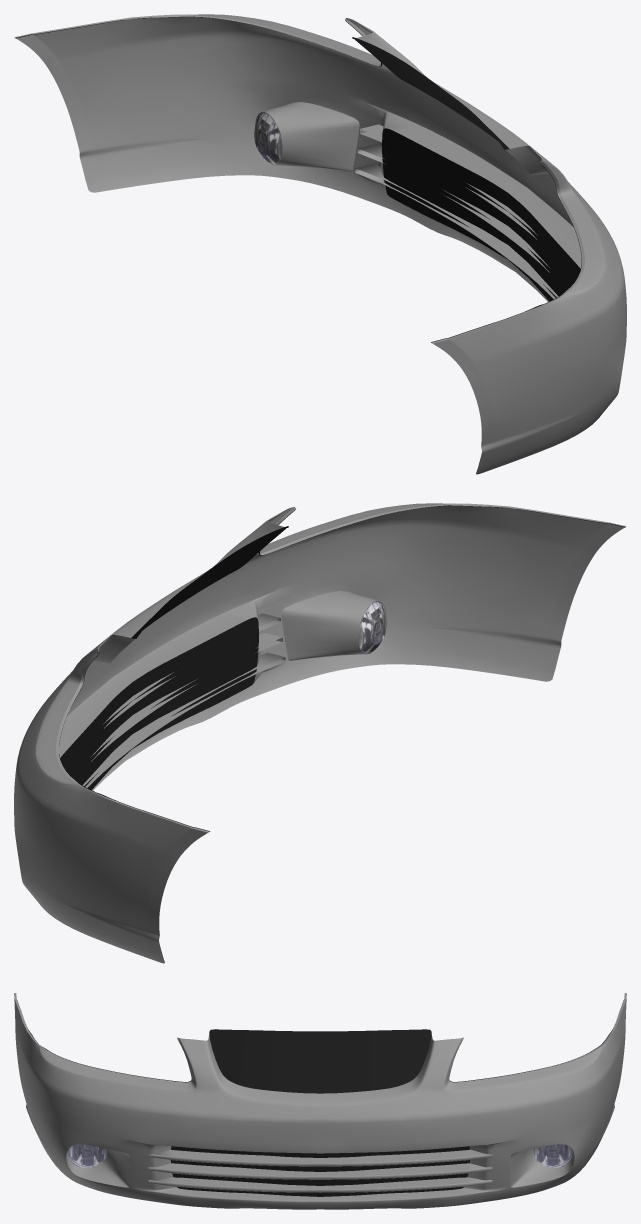
3 views of the same model, one above another, from view 1: azimuth 30°, elevation 25°; view 2: azimuth 150°, elevation 25°; view 3: azimuth 270°, elevation 25° (orthographic). The views are drawn at different scales.
Parts seen in each view (by area): view 1: Z176_021G_C_Z176_021G_C_7_DaS, Z176_021G_C_Z176_021G_C_7_DaS_E, Z176_021G_C_Z176_021G_C_3_D, Z176_021G_C_1_N_Z176_021G_C; view 2: Z176_021G_C_Z176_021G_C_7_DaS, Z176_021G_C_Z176_021G_C_7_DaS_E, Z176_021G_C_Z176_021G_C_3_D, Z176_021G_C_Z176_021G_C_2_N; view 3: Z176_021G_C_Z176_021G_C_7_DaS, Z176_021G_C_Z176_021G_C_3_D, Z176_021G_C_Z176_021G_C_7_DaS_E, Z176_021G_C_1_N_Z176_021G_C, Z176_021G_C_Z176_021G_C_2_N, Z176_021G_C_Z176_021G_C_4_DTaSI, Z176_021G_C_Z176_021G_C_5_DTaSI, Z176_021G_C_Z176_021G_C_6_D.
Part boxes in pixels (<box>): Z176_021G_C_Z176_021G_C_7_DaS: <box>16,14,626,474</box>; Z176_021G_C_Z176_021G_C_7_DaS_E: <box>14,14,584,343</box>; Z176_021G_C_Z176_021G_C_3_D: <box>352,37,580,301</box>; Z176_021G_C_1_N_Z176_021G_C: <box>254,112,282,165</box>; Z176_021G_C_Z176_021G_C_7_DaS: <box>14,503,624,963</box>; Z176_021G_C_Z176_021G_C_7_DaS_E: <box>56,503,626,832</box>; Z176_021G_C_Z176_021G_C_3_D: <box>60,526,288,790</box>; Z176_021G_C_Z176_021G_C_2_N: <box>358,601,386,654</box>; Z176_021G_C_Z176_021G_C_7_DaS: <box>14,995,626,1209</box>; Z176_021G_C_Z176_021G_C_3_D: <box>170,1029,470,1196</box>; Z176_021G_C_Z176_021G_C_7_DaS_E: <box>14,993,626,1201</box>; Z176_021G_C_1_N_Z176_021G_C: <box>533,1144,573,1167</box>; Z176_021G_C_Z176_021G_C_2_N: <box>67,1144,107,1167</box>; Z176_021G_C_Z176_021G_C_4_DTaSI: <box>68,1144,106,1167</box>; Z176_021G_C_Z176_021G_C_5_DTaSI: <box>534,1144,572,1167</box>; Z176_021G_C_Z176_021G_C_6_D: <box>17,1000,623,1082</box>.
Size of the model in its own units: 85.18 by 56.36 by 203.
